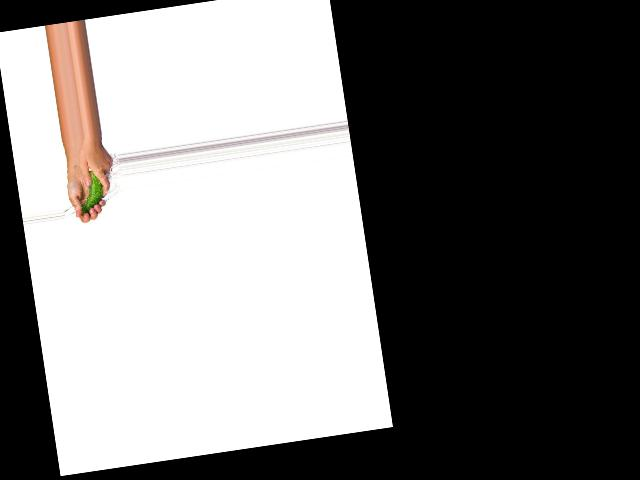cucumber: (75, 168, 106, 215)
